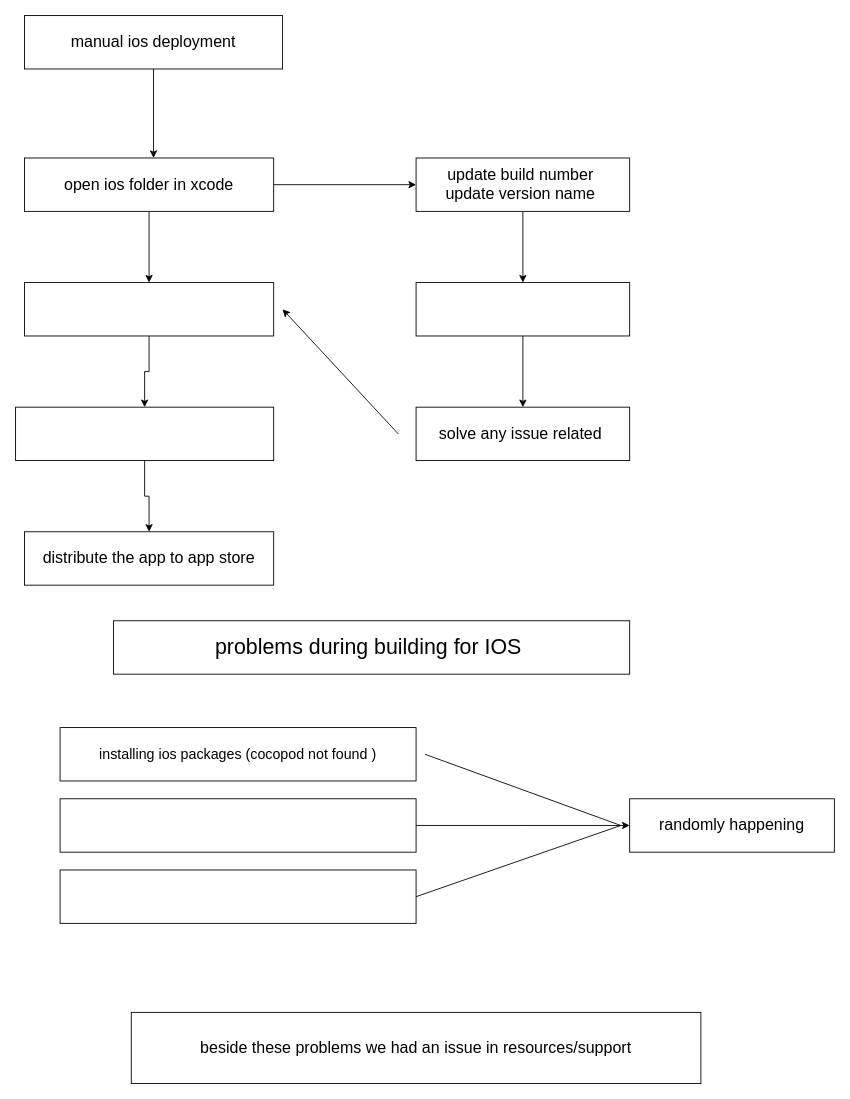
Some shapes in this 850 by 1099 pixel diagram are drawn without their labels. Each missing label, with the box of its shape:
archieve: (15, 406, 274, 461)
build app for generic ios device: (24, 282, 274, 336)
flutter.h could not be found: (59, 798, 416, 852)
ios native integration with 3rd party like firebase: (415, 282, 630, 336)
when apple update xcode /new ios version: (59, 869, 416, 923)
